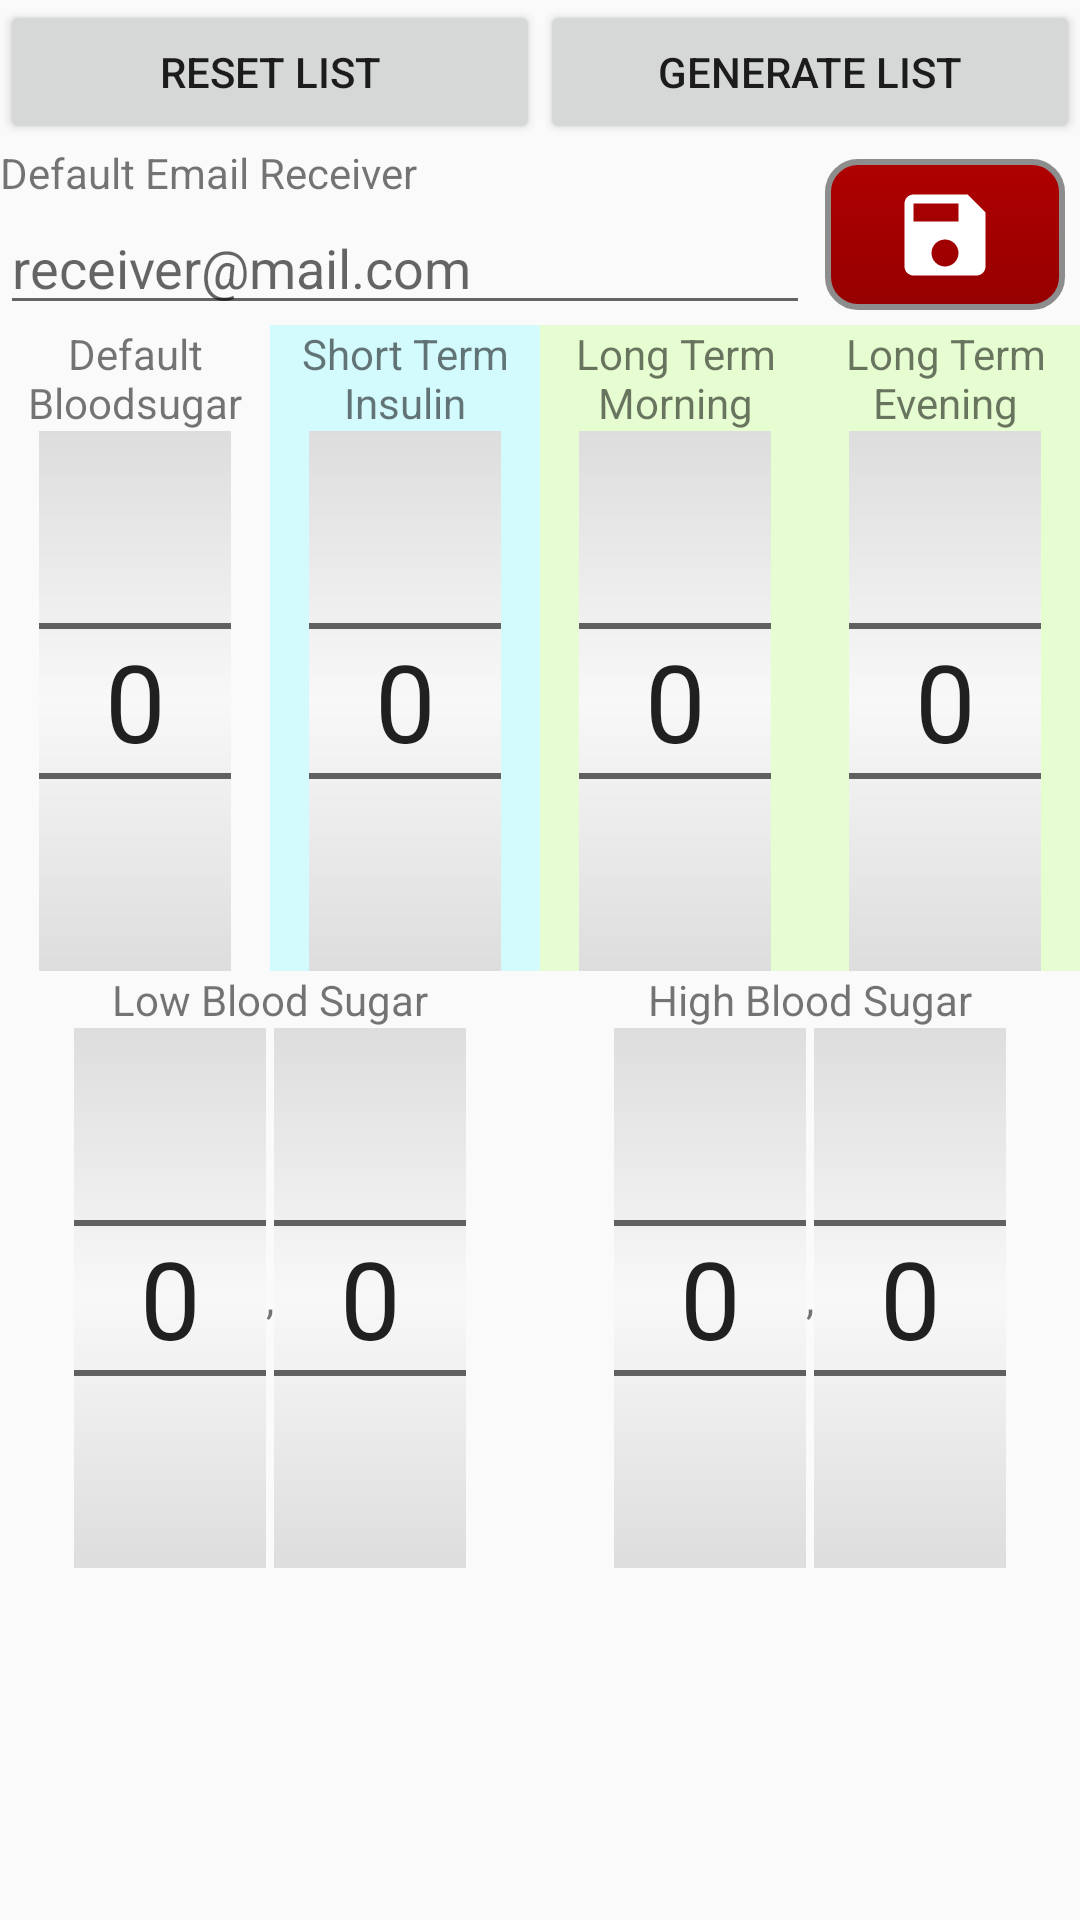

Point at icon controls on the screen. Image size 1080w x 1920h, points as (x,y).
save: (945,234)
